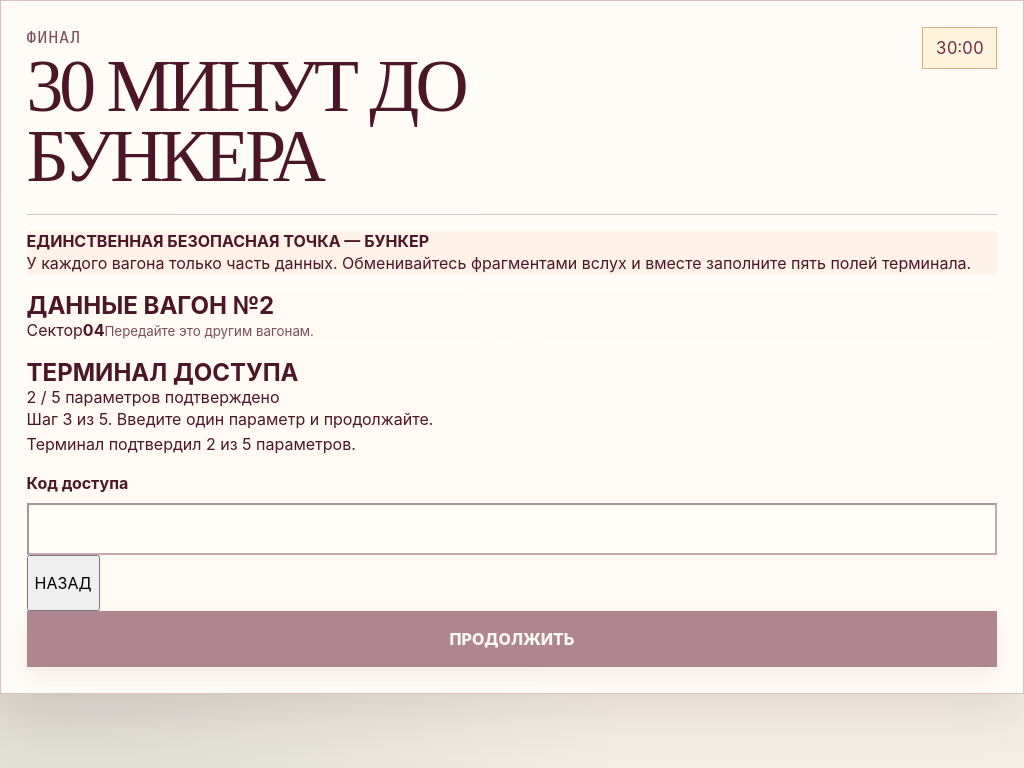
Test case: FinalPlayer › reviews all five values and submits the unchanged access payload exactly once
The width and height of the screenshot is (1024, 768).
Earlier steps of the test are not shown.
Later steps or results of the test are not shown.
Type "4719" into the field labelled "Код доступа" at (512,529), box top-left (27, 503), bottom-right (997, 555)
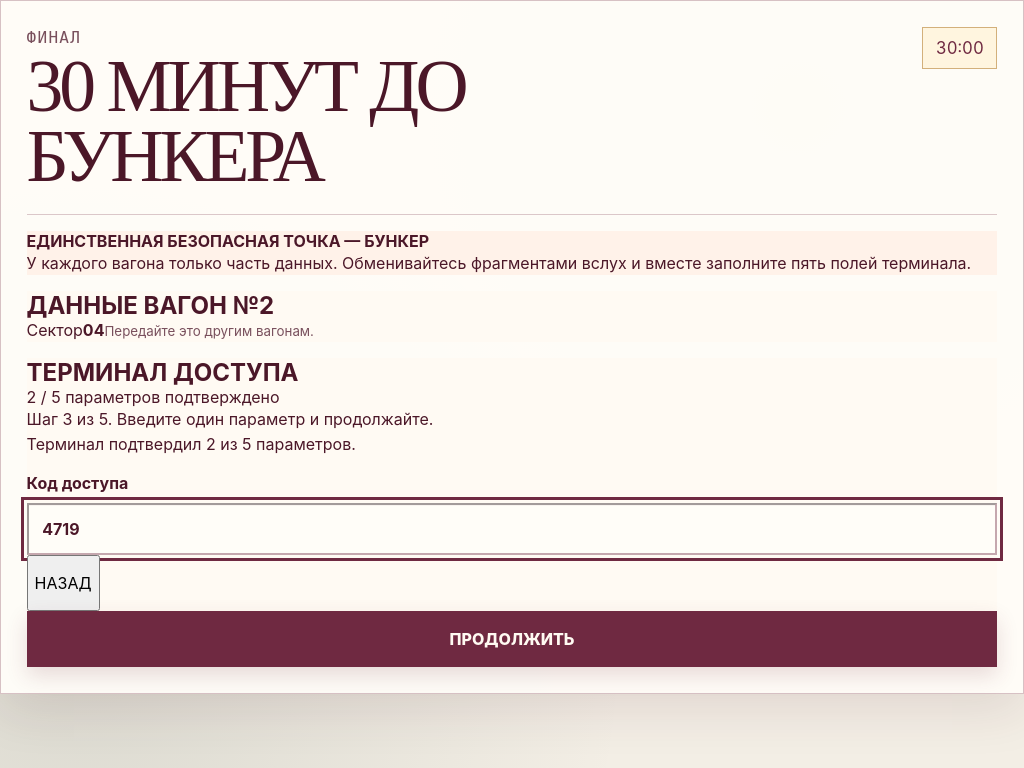
Click the button "ПРОДОЛЖИТЬ" at (512,639), box top-left (27, 611), bottom-right (997, 667)
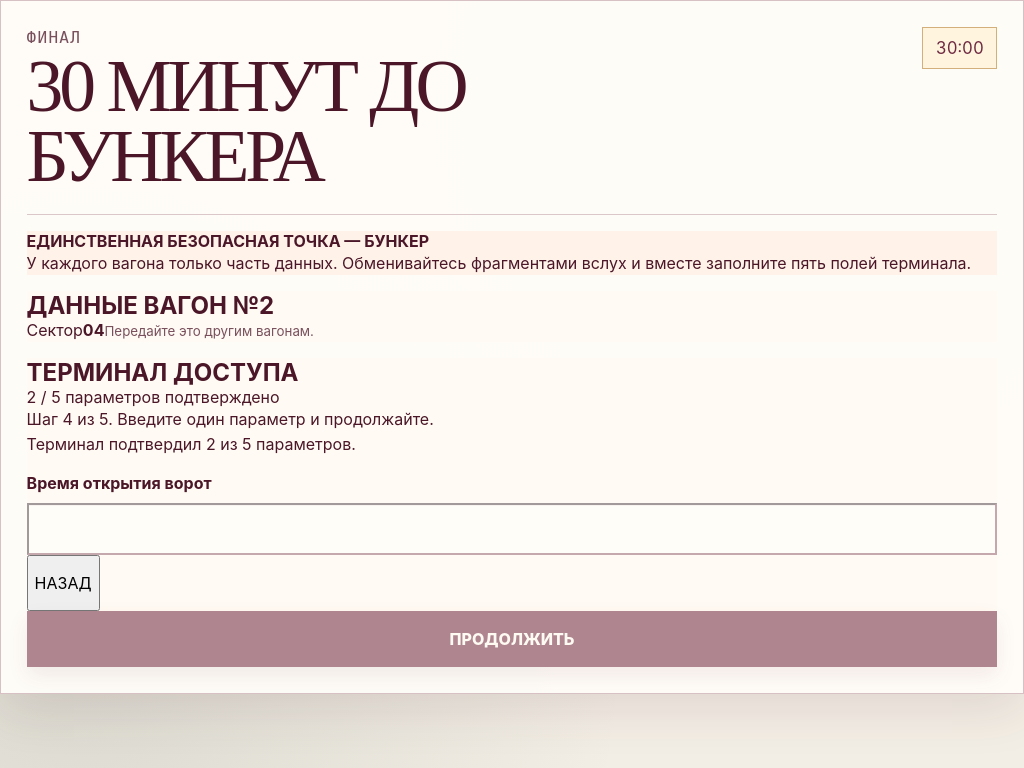
Type "23:40" into the field labelled "Время открытия ворот" at (512,529), box top-left (27, 503), bottom-right (997, 555)
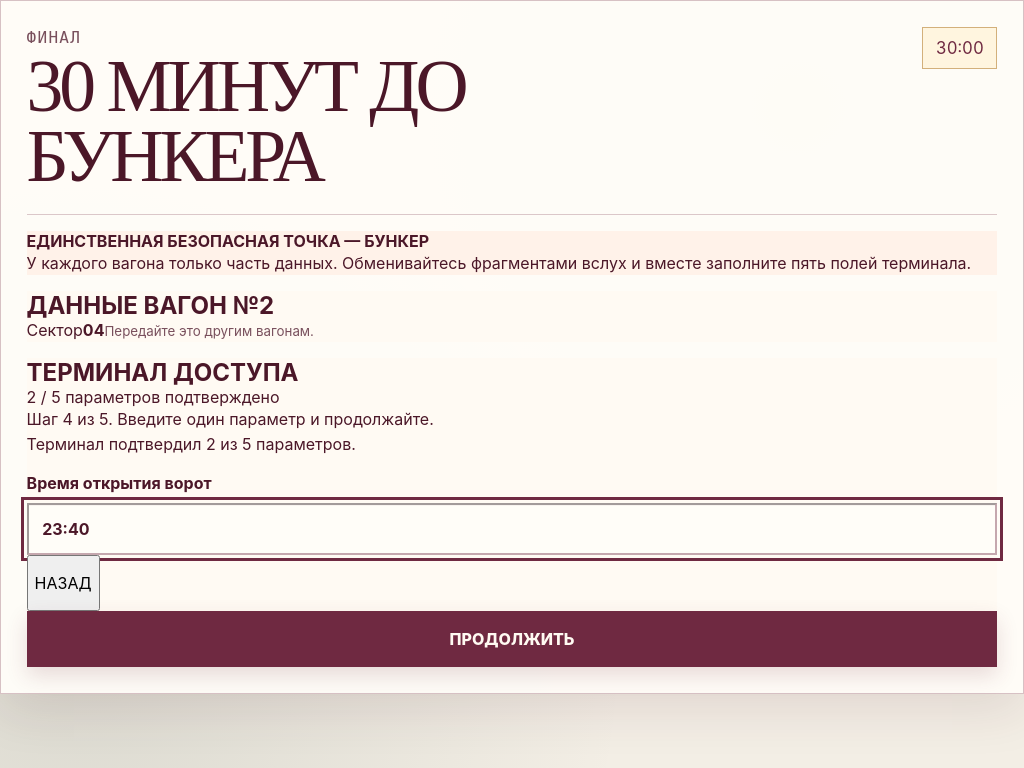
Click the button "ПРОДОЛЖИТЬ" at (512,639), box top-left (27, 611), bottom-right (997, 667)
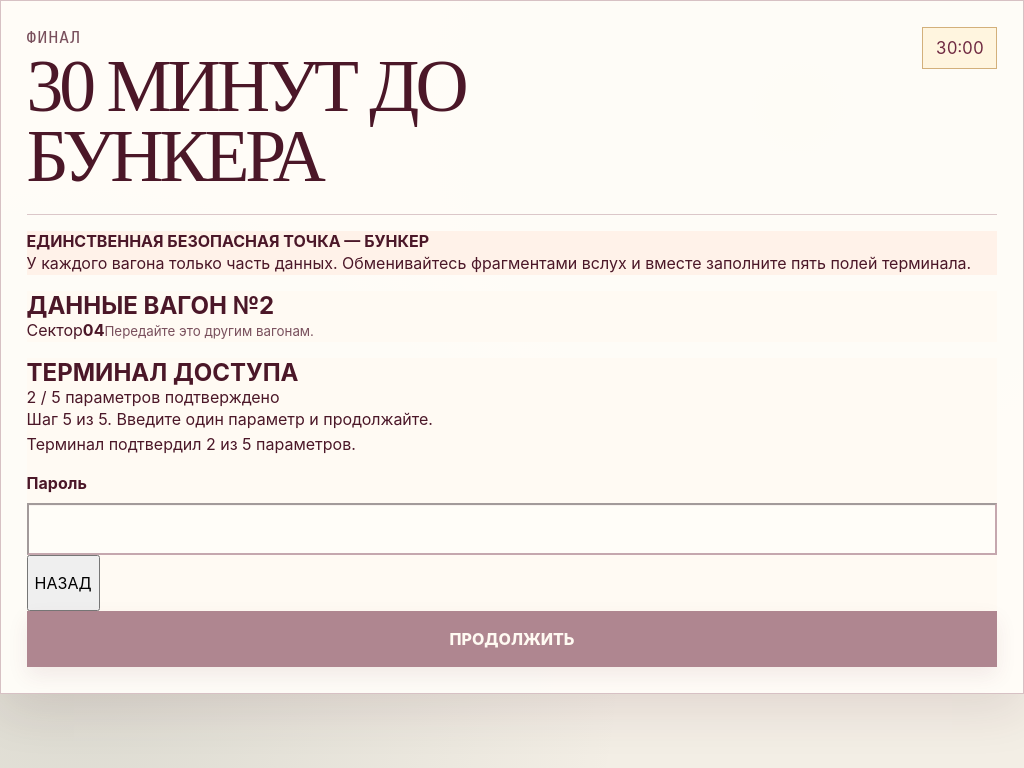
Type "LV0830" into the field labelled "Пароль" at (512,529), box top-left (27, 503), bottom-right (997, 555)
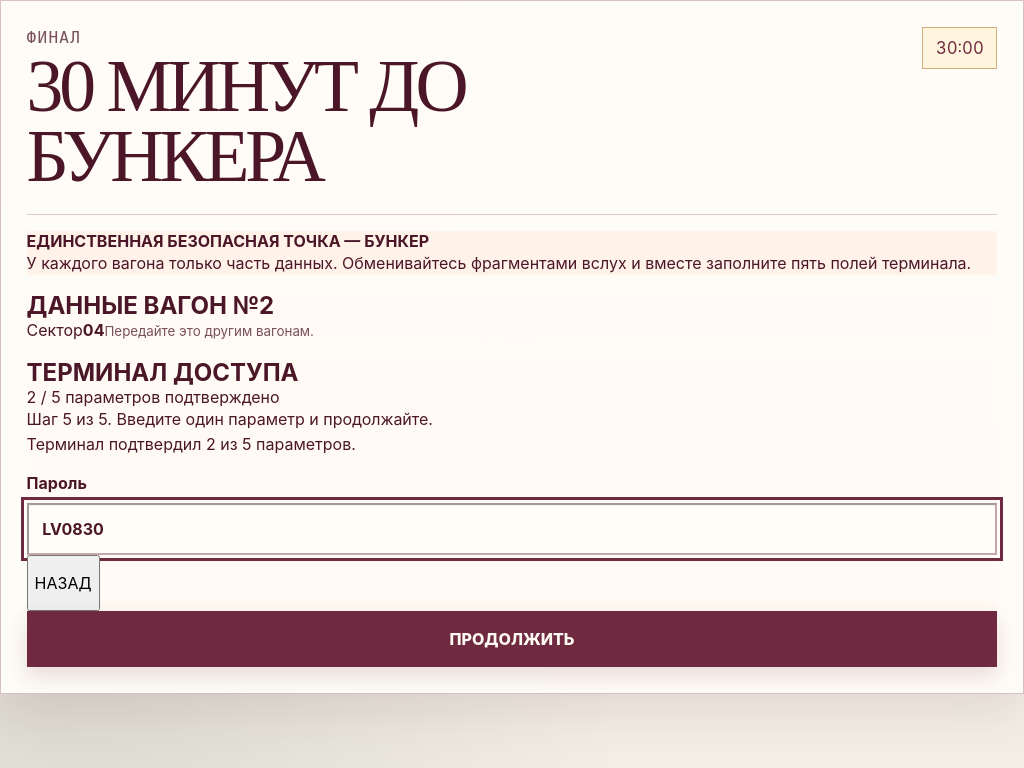
Click the button "ПРОДОЛЖИТЬ" at (512,639), box top-left (27, 611), bottom-right (997, 667)
(page scrolled)
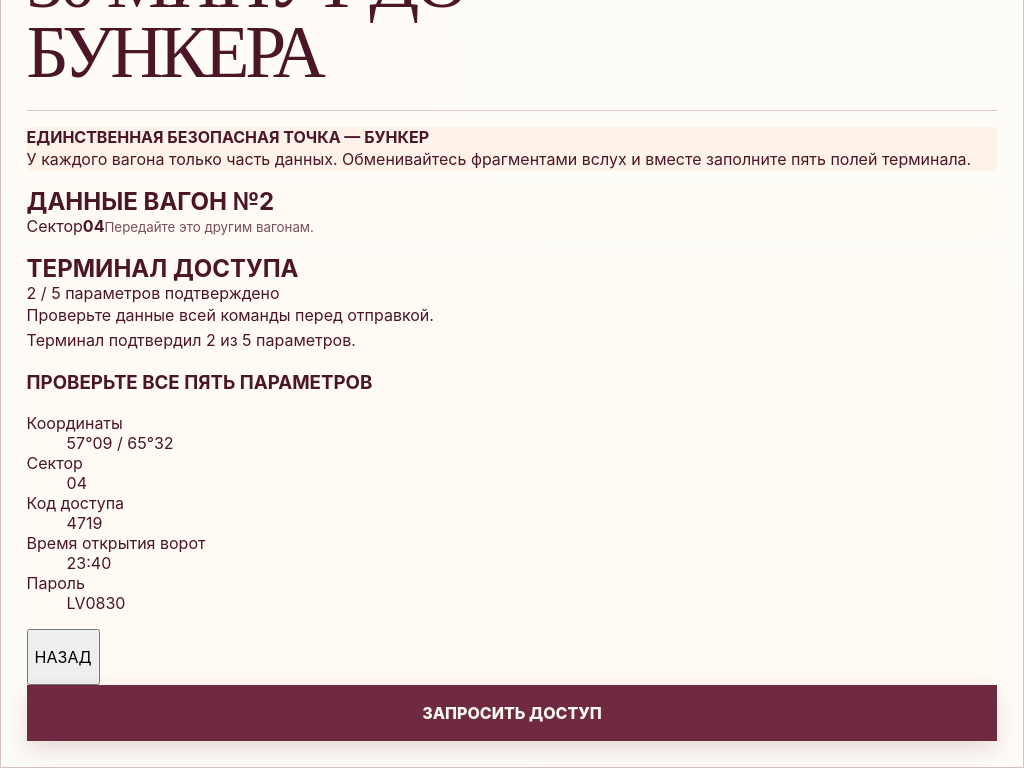
Now the heading "ПРОВЕРЬТЕ ВСЕ ПЯТЬ ПАРАМЕТРОВ" is shown, box top-left (27, 371), bottom-right (372, 394)
Now the text "57°09 / 65°32" is shown, box top-left (67, 433), bottom-right (174, 453)
Now the text "04" below "57°09 / 65°32" is shown, box top-left (67, 473), bottom-right (87, 493)
